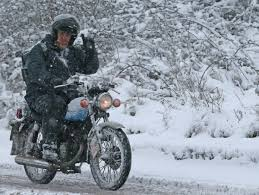motorcycle: (7, 73, 135, 191)
